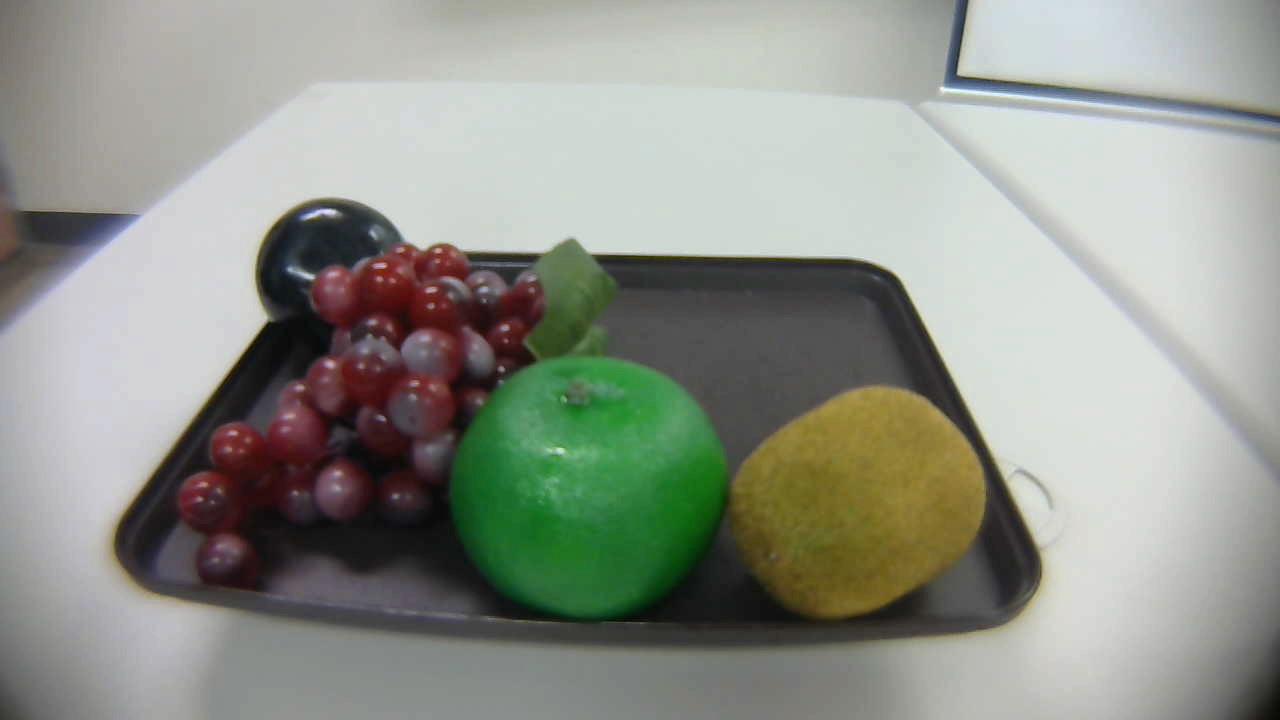grape: (168, 243, 612, 604)
green orange: (438, 353, 742, 639)
kiwi fruit: (722, 381, 992, 624)
mangosteen: (243, 196, 415, 329)
